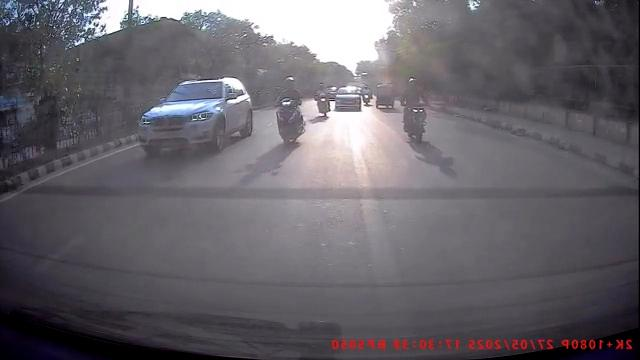motorcycle_with_helmet: (274, 74, 306, 144), (401, 75, 429, 142)
